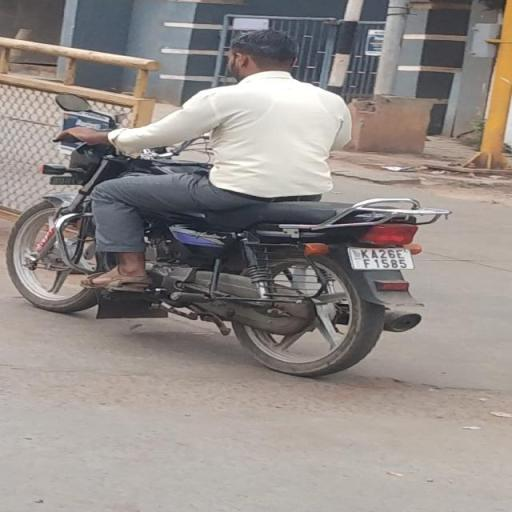bike: (9, 26, 457, 376)
numberplate: (348, 247, 414, 269)
withouthelmet: (234, 34, 297, 72)
